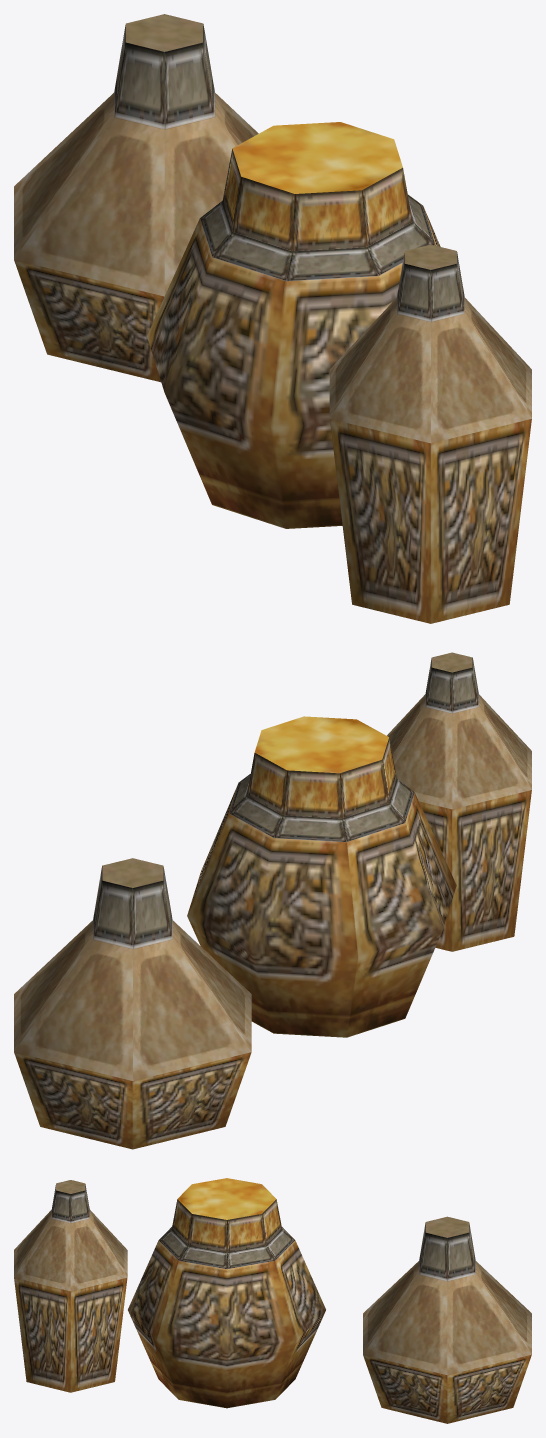
The model's file is INST_LT_FLASKS1.fbx.
3 renders of one model, top to bottom at view 1: azimuth 30°, elevation 25°; view 2: azimuth 150°, elevation 25°; view 3: azimuth 270°, elevation 25°, orthographic. The views are drawn at different scales.
Parts seen in each view (by area): view 1: INST_LT_FLASKS1; view 2: INST_LT_FLASKS1; view 3: INST_LT_FLASKS1.
Part boxes in pixels (x1,y1,x2,y2): INST_LT_FLASKS1: (14, 14, 531, 623); INST_LT_FLASKS1: (14, 652, 531, 1149); INST_LT_FLASKS1: (14, 1178, 531, 1423).
Bounding box in the file's own units: 3365 × 3068 × 7749.
3 materials, 3 textured.
